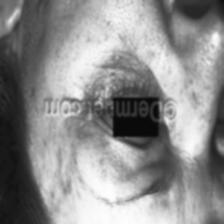Non-Cancerous Skin Condition: (72, 32, 210, 96)
